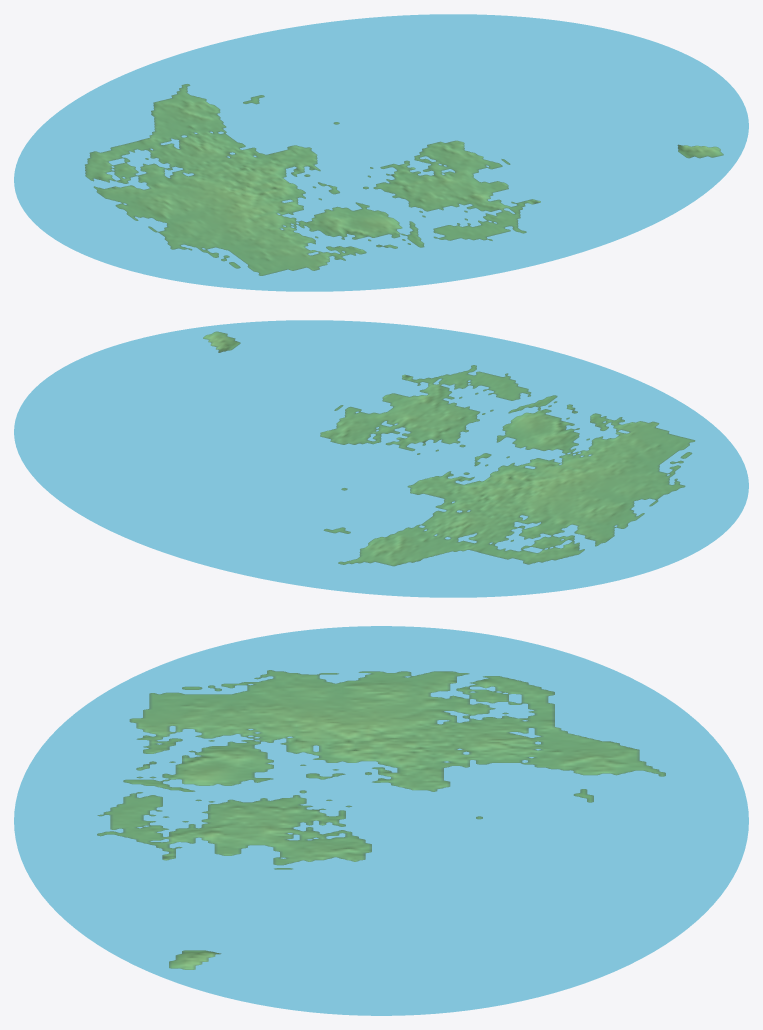
The model's file is DNK-terrain.glb.
The picture shows the model from 3 angles, top to bottom: view 1: azimuth 30°, elevation 25°; view 2: azimuth 150°, elevation 25°; view 3: azimuth 270°, elevation 25°; orthographic projection. The views are drawn at different scales.
Parts seen in each view (by area): view 1: Relevo com hidrografia; view 2: Relevo com hidrografia; view 3: Relevo com hidrografia.
Part boxes in pixels (x1,y1,x2,y2): Relevo com hidrografia: (14,14,748,291); Relevo com hidrografia: (14,320,748,597); Relevo com hidrografia: (14,626,748,1015).
Size of the model in its own units: 2.08 by 0.00656 by 1.66.
2 materials, 1 textured.
